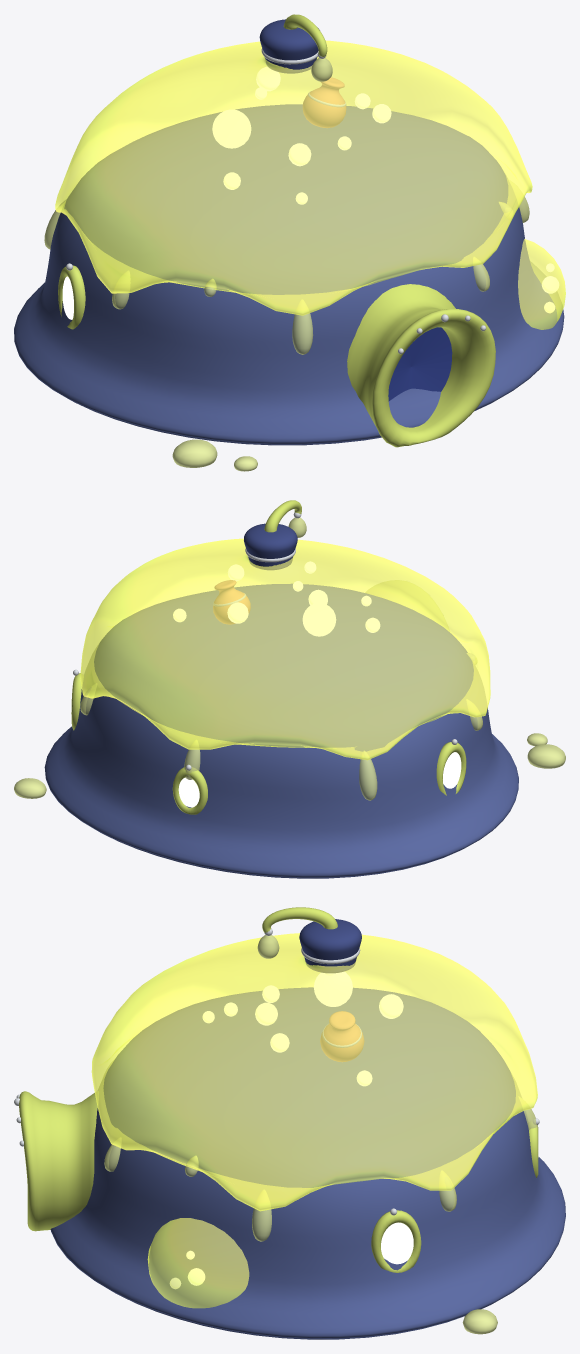
File: house_02_0205.fbx
3 renders of one model, top to bottom at view 1: azimuth 30°, elevation 25°; view 2: azimuth 150°, elevation 25°; view 3: azimuth 270°, elevation 25°, orthographic. The views are drawn at different scales.
Visible parts, largest first — view 1: House02_Body_Base, House02_Dome_JellyClear, House02_Entrance_Tunnel, House02_Blister_JellyClear, House02_Entrance_Shadow, House02_Top_Plug, House02_Float_Pot, House02_Float_Lamp, House02_Puddle_1, House02_WindowLip_L, House02_Drip_6, House02_Top_Sprout; view 2: House02_Body_Base, House02_Dome_JellyClear, House02_Top_Plug, House02_Entrance_Tunnel, House02_Float_Lamp, House02_WindowLip_Back, House02_Float_Pot, House02_Puddle_1, House02_WindowLip_L, House02_Drip_4, House02_Puddle_3, House02_Top_Sprout (+3 smaller); view 3: House02_Body_Base, House02_Dome_JellyClear, House02_Entrance_Tunnel, House02_Blister_JellyClear, House02_Top_Plug, House02_Float_Pot, House02_WindowLip_R, House02_Window_R, House02_Float_Lamp, House02_Top_Sprout, House02_Puddle_3, House02_Drip_1.
Part boxes in pixels (box(x1,y1,x2,y2)): House02_Body_Base: box(14, 104, 564, 445); House02_Dome_JellyClear: box(55, 40, 532, 315); House02_Entrance_Tunnel: box(347, 284, 495, 447); House02_Blister_JellyClear: box(518, 239, 565, 329); House02_Entrance_Shadow: box(388, 327, 452, 401); House02_Top_Plug: box(259, 19, 319, 73); House02_Float_Pot: box(303, 77, 345, 127); House02_Float_Lamp: box(212, 110, 250, 148); House02_Puddle_1: box(172, 439, 217, 467); House02_WindowLip_L: box(58, 265, 85, 329); House02_Drip_6: box(292, 313, 313, 354); House02_Top_Sprout: box(283, 14, 327, 56); House02_Body_Base: box(44, 584, 518, 878); House02_Dome_JellyClear: box(80, 538, 490, 760); House02_Top_Plug: box(244, 523, 297, 569); House02_Entrance_Tunnel: box(366, 580, 448, 629); House02_Float_Lamp: box(303, 603, 335, 636); House02_WindowLip_Back: box(172, 767, 207, 814); House02_Float_Pot: box(213, 580, 250, 624); House02_Puddle_1: box(527, 744, 565, 768); House02_WindowLip_L: box(436, 742, 466, 795); House02_Drip_4: box(359, 751, 377, 800); House02_Puddle_3: box(14, 778, 46, 798); House02_Top_Sprout: box(264, 500, 301, 532); House02_Body_Base: box(50, 987, 565, 1339); House02_Dome_JellyClear: box(91, 933, 537, 1211); House02_Entrance_Tunnel: box(19, 1091, 98, 1231); House02_Blister_JellyClear: box(147, 1218, 249, 1308); House02_Top_Plug: box(299, 919, 361, 972); House02_Float_Pot: box(320, 1011, 364, 1061); House02_WindowLip_R: box(371, 1210, 421, 1272); House02_Window_R: box(381, 1222, 413, 1264); House02_Float_Lamp: box(314, 972, 352, 1006); House02_Top_Sprout: box(262, 907, 337, 932); House02_Puddle_3: box(462, 1309, 497, 1334); House02_Drip_1: box(252, 1208, 271, 1241).
Bounding box in the file's own units: 6.3 × 3.96 × 6.2.
